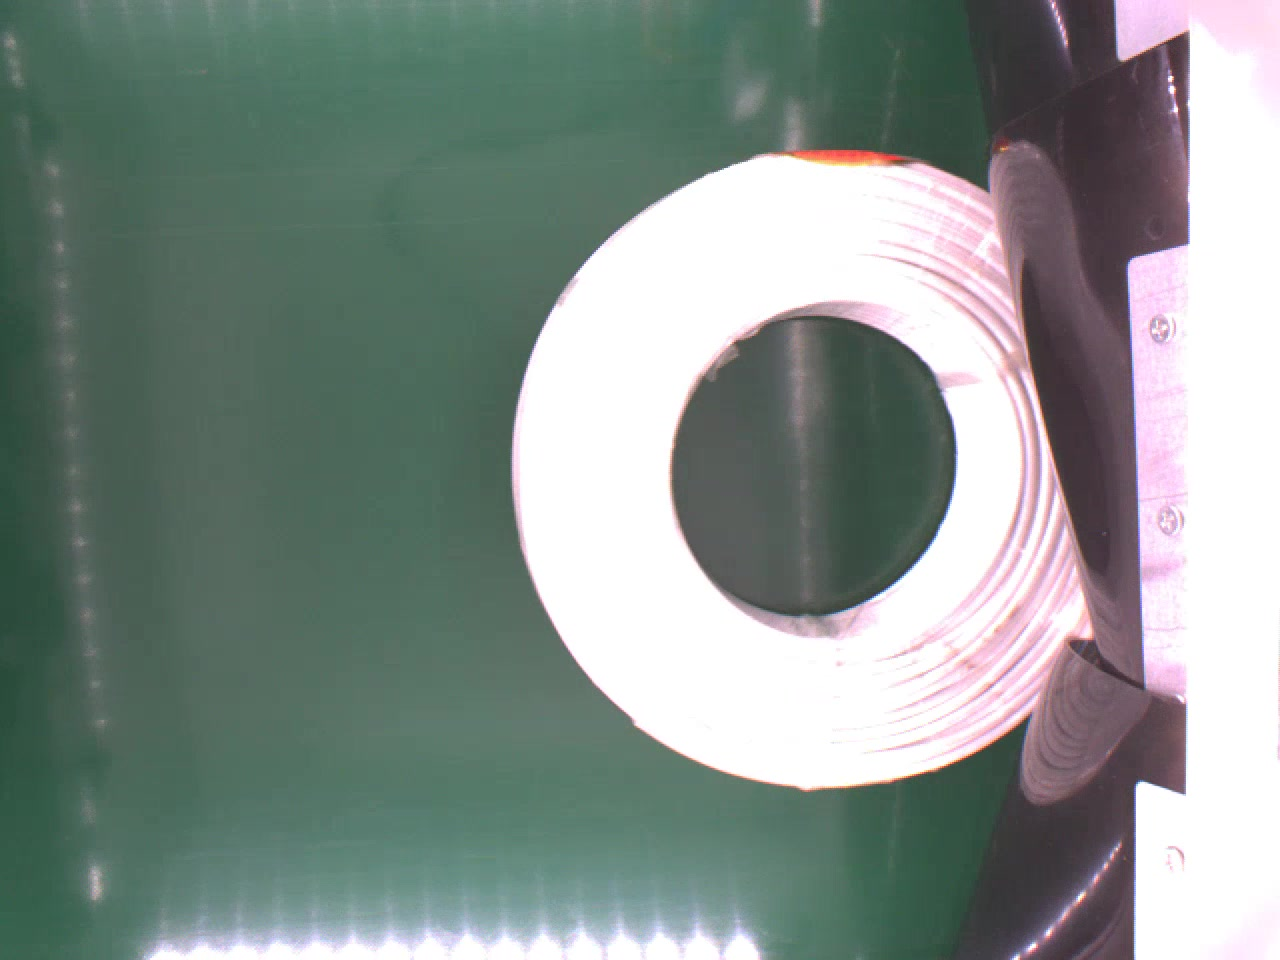white: (507, 145, 1092, 790)
